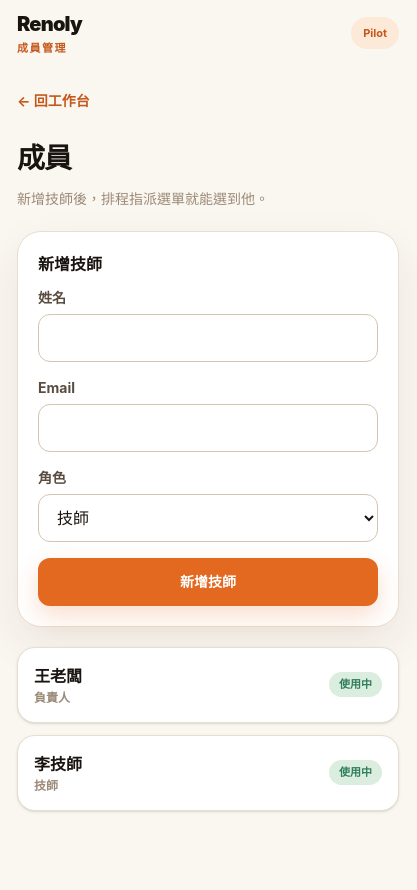
Scenario: TeamManagement › blocks submit when required fields are empty
Check: the text "王老闆" is shown, box [34,664,82,688]
What coordinates should you click on to do the following:
click the button "新增技師"
I would click on:
 (208, 582)
Its box is [38,558,378,606].
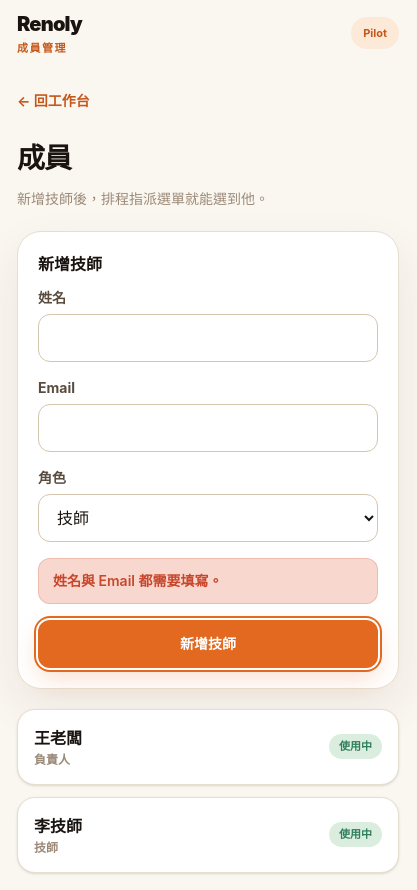
Check: the message shows "姓名與 Email", box [53,572,222,588]
